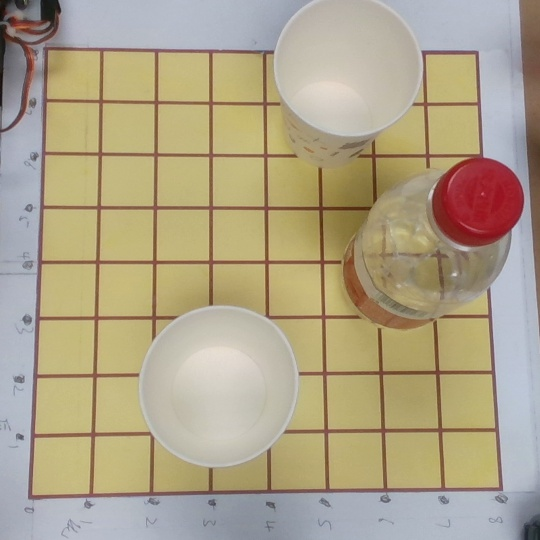bottle: (330, 156, 526, 351)
cup: (264, 1, 425, 192), (123, 303, 303, 470)
